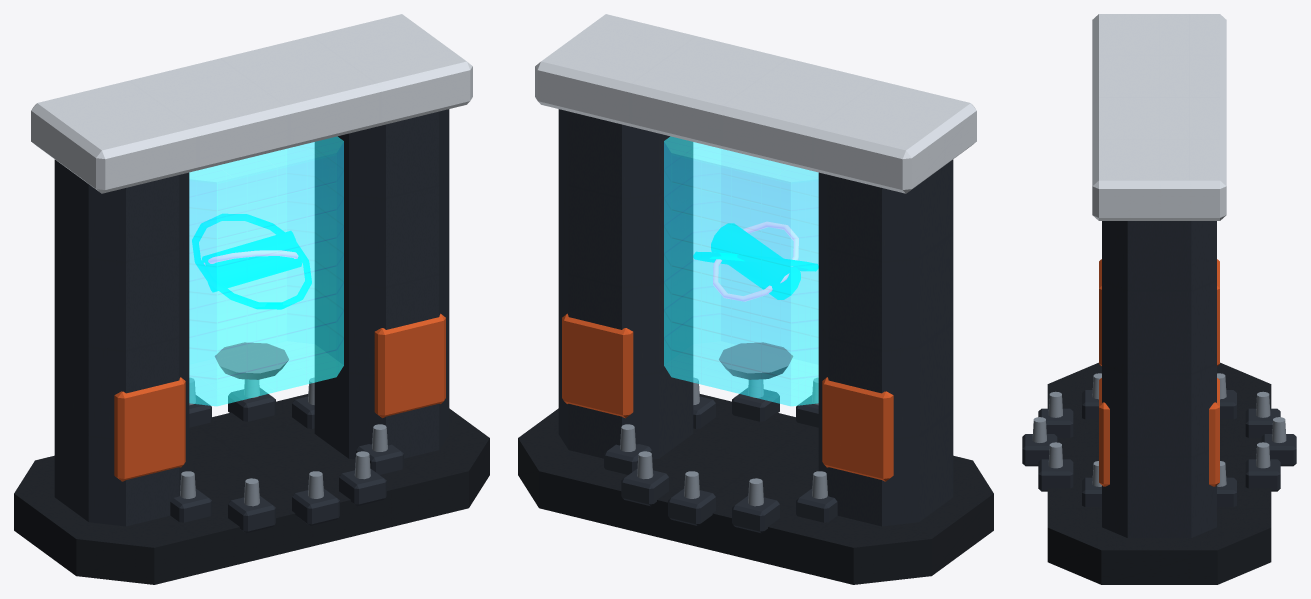
File: prop_02_r1_03.glb
The picture shows the model from 3 angles, left to right: view 1: azimuth 30°, elevation 25°; view 2: azimuth 150°, elevation 25°; view 3: azimuth 270°, elevation 25°; orthographic projection. The views are drawn at different scales.
Parts seen in each view (by area): view 1: Prop02_C03_carbon_slate, Prop02_C03_aero_white, Prop02_C03_gunmetal, Prop02_C03_glass_cyan, Prop02_C03_accent_orange, Prop02_C03_led_cyan, Prop02_C03_steel_machined; view 2: Prop02_C03_carbon_slate, Prop02_C03_aero_white, Prop02_C03_gunmetal, Prop02_C03_glass_cyan, Prop02_C03_accent_orange, Prop02_C03_steel_machined, Prop02_C03_led_cyan, Prop02_C03_led_uv; view 3: Prop02_C03_carbon_slate, Prop02_C03_aero_white, Prop02_C03_gunmetal, Prop02_C03_steel_machined, Prop02_C03_accent_orange.
Boxes of the visible parts, x1=… form: Prop02_C03_carbon_slate: x1=54, y1=109, x2=449, y2=533; Prop02_C03_aero_white: x1=31, y1=14, x2=472, y2=193; Prop02_C03_gunmetal: x1=14, y1=394, x2=489, y2=584; Prop02_C03_glass_cyan: x1=189, y1=136, x2=343, y2=406; Prop02_C03_accent_orange: x1=114, y1=313, x2=445, y2=481; Prop02_C03_led_cyan: x1=192, y1=214, x2=311, y2=309; Prop02_C03_steel_machined: x1=180, y1=342, x2=387, y2=506; Prop02_C03_carbon_slate: x1=558, y1=109, x2=953, y2=533; Prop02_C03_aero_white: x1=535, y1=14, x2=976, y2=193; Prop02_C03_gunmetal: x1=518, y1=394, x2=993, y2=584; Prop02_C03_glass_cyan: x1=664, y1=136, x2=818, y2=406; Prop02_C03_accent_orange: x1=562, y1=313, x2=893, y2=481; Prop02_C03_steel_machined: x1=620, y1=342, x2=827, y2=506; Prop02_C03_led_cyan: x1=693, y1=223, x2=818, y2=299; Prop02_C03_led_uv: x1=713, y1=221, x2=798, y2=301; Prop02_C03_carbon_slate: x1=1022, y1=221, x2=1296, y2=537; Prop02_C03_aero_white: x1=1092, y1=14, x2=1226, y2=220; Prop02_C03_gunmetal: x1=1047, y1=362, x2=1271, y2=584; Prop02_C03_steel_machined: x1=1032, y1=373, x2=1286, y2=486; Prop02_C03_accent_orange: x1=1099, y1=259, x2=1219, y2=486.
Bounding box in the file's own units: 2.8 × 2.72 × 1.72.
Materials: 8 (8 with a texture image).
